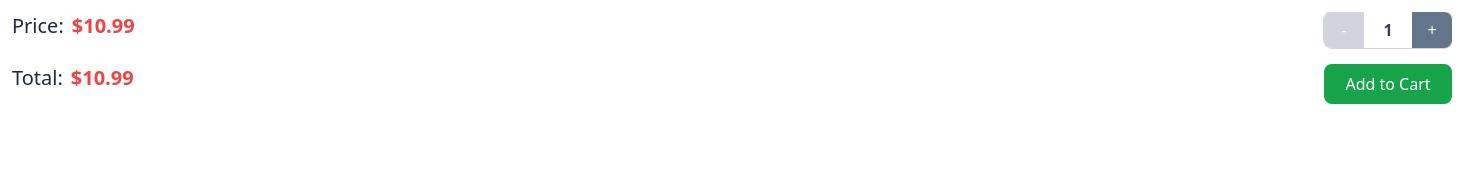
Test case: amount state updates correctly when increased by 1
The image size is (1464, 172).
Click the button "+": {"x": 1432, "y": 30} [1412, 12, 1452, 48]
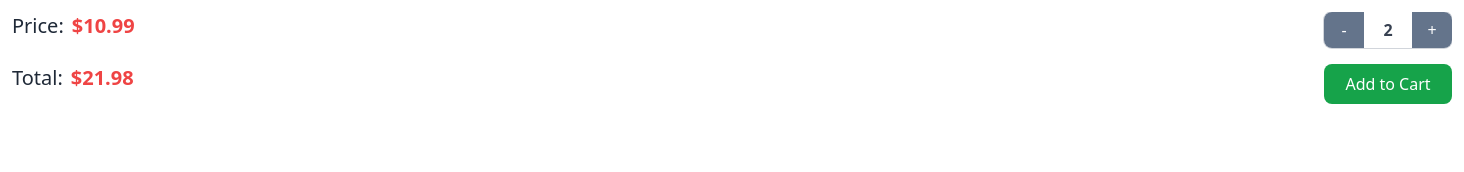
Expected: the number field with test id "counter-input" holds "2", [1364, 12, 1412, 48]
